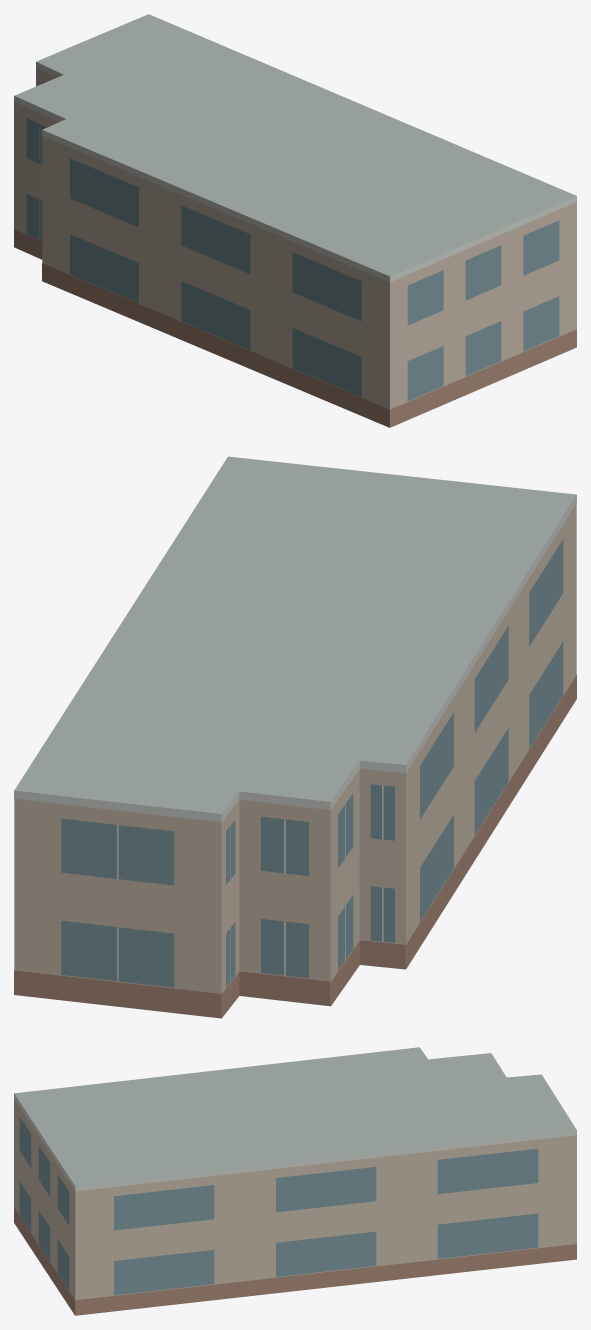
File: survey-upis-32927706.glb
3 renders of one model, top to bottom at view 1: azimuth 30°, elevation 25°; view 2: azimuth 150°, elevation 25°; view 3: azimuth 270°, elevation 25°, orthographic. The views are drawn at different scales.
Parts seen in each view (by area): view 1: survey-upis-32927706.tmp; view 2: survey-upis-32927706.tmp; view 3: survey-upis-32927706.tmp.
Boxes of the visible parts, x1=… form: survey-upis-32927706.tmp: x1=14, y1=14, x2=576, y2=427; survey-upis-32927706.tmp: x1=14, y1=456, x2=576, y2=1018; survey-upis-32927706.tmp: x1=14, y1=1047, x2=576, y2=1315.
Size of the model in its own units: 14.06 by 6.1 by 24.04.
